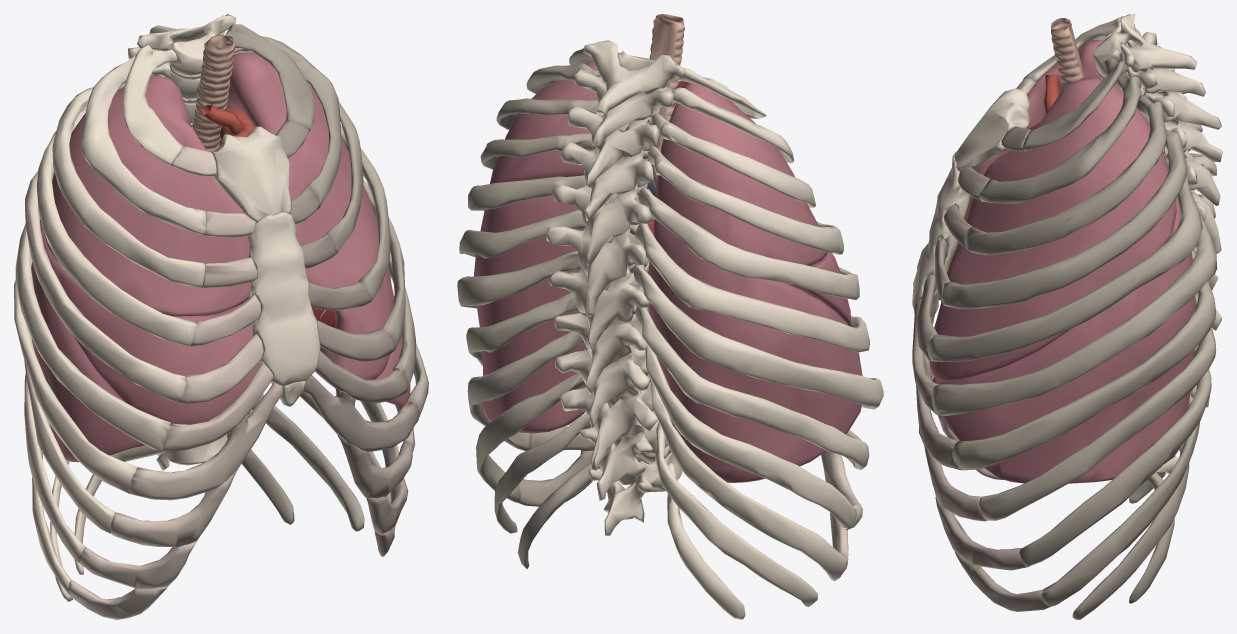
Rendered from thorax-mobile.glb.
3 views of the same model, side by side, from view 1: azimuth 30°, elevation 25°; view 2: azimuth 150°, elevation 25°; view 3: azimuth 270°, elevation 25° (orthographic). The views are drawn at different scales.
Parts seen in each view (by area): view 1: RibsR_Bone, RibsR_Cartilage, LungR_superior_lobe_of_right_lung, RibsL_Bone, RibsL_Cartilage, LungL_superior_lobe_of_left_lung, LungR_middle_lobe_of_right_lung, Sternum_body_of_sternum, Sternum_manubrium_of_sternum, LungR_inferior_lobe_of_right_lung, Spine_Bone, Mediastinum_Airway (+1 smaller); view 2: RibsR_Bone, Spine_Bone, RibsL_Bone, LungR_inferior_lobe_of_right_lung, LungR_superior_lobe_of_right_lung, LungL_inferior_lobe_of_left_lung, LungL_superior_lobe_of_left_lung, RibsL_Cartilage, Mediastinum_Airway, RibsR_Cartilage, LungR_middle_lobe_of_right_lung; view 3: RibsL_Bone, LungL_superior_lobe_of_left_lung, LungL_inferior_lobe_of_left_lung, RibsL_Cartilage, Spine_Bone, Sternum_manubrium_of_sternum, Sternum_body_of_sternum, RibsR_Bone, LungR_superior_lobe_of_right_lung, Mediastinum_Airway, RibsR_Cartilage, Mediastinum_Aorta.
Boxes of the visible parts, x1,y1,x2,y2 form: RibsR_Bone: (14,45,206,601); RibsR_Cartilage: (68,145,282,619); LungR_superior_lobe_of_right_lung: (42,75,251,316); RibsL_Bone: (225,24,428,531); RibsL_Cartilage: (275,120,419,556); LungL_superior_lobe_of_left_lung: (226,52,393,379); LungR_middle_lobe_of_right_lung: (42,235,259,424); Sternum_body_of_sternum: (247,212,320,386); Sternum_manubrium_of_sternum: (212,126,291,222); LungR_inferior_lobe_of_right_lung: (31,219,145,462); Spine_Bone: (128,14,235,470); Mediastinum_Airway: (192,34,235,152); RibsR_Bone: (633,67,883,619); Spine_Bone: (546,40,685,535); RibsL_Bone: (457,48,618,568); LungR_inferior_lobe_of_right_lung: (648,219,862,482); LungR_superior_lobe_of_right_lung: (655,82,827,265); LungL_inferior_lobe_of_left_lung: (473,195,585,433); LungL_superior_lobe_of_left_lung: (490,60,598,183); RibsL_Cartilage: (518,426,594,506); Mediastinum_Airway: (648,14,684,188); RibsR_Cartilage: (731,101,862,580); LungR_middle_lobe_of_right_lung: (788,252,851,326); RibsL_Bone: (928,57,1217,619); LungL_superior_lobe_of_left_lung: (929,77,1175,381); LungL_inferior_lobe_of_left_lung: (932,197,1196,483); RibsL_Cartilage: (912,126,1049,611); Spine_Bone: (1092,14,1222,483); Sternum_manubrium_of_sternum: (954,88,1029,171); Sternum_body_of_sternum: (913,152,970,317); RibsR_Bone: (1022,17,1216,503); LungR_superior_lobe_of_right_lung: (964,39,1103,221); Mediastinum_Airway: (1051,18,1084,88); RibsR_Cartilage: (912,78,1035,479); Mediastinum_Aorta: (1029,74,1059,129).
Bounding box in the file's own units: 2.83 × 4.04 × 2.14.
